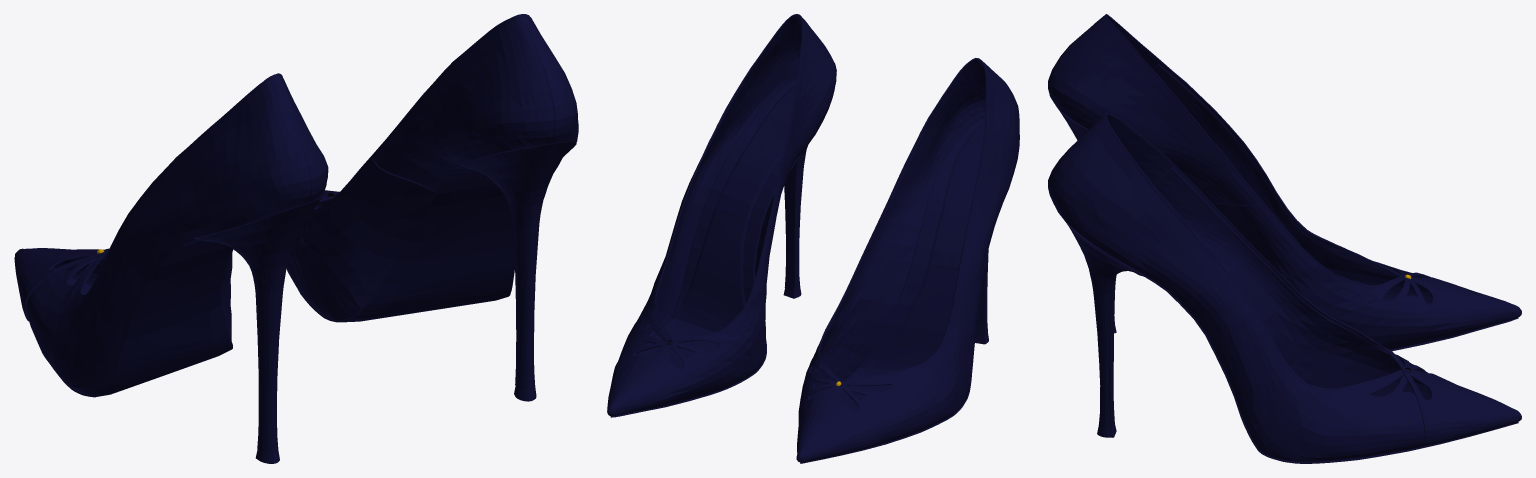
The model's file is shoe2.DAE.
3 views of the same model, side by side, from view 1: azimuth 30°, elevation 25°; view 2: azimuth 150°, elevation 25°; view 3: azimuth 270°, elevation 25° (orthographic). The views are drawn at different scales.
Visible parts, largest first — view 1: lFoot_001, rFoot_001; view 2: rFoot_001, lFoot_001; view 3: lFoot_001, rFoot_001.
Part boxes in pixels (x1,y1,x2,y2): lFoot_001: [286, 14, 578, 401]; rFoot_001: [14, 73, 328, 463]; rFoot_001: [796, 58, 1019, 463]; lFoot_001: [607, 14, 836, 417]; lFoot_001: [1048, 113, 1521, 463]; rFoot_001: [1048, 14, 1521, 351].
Bounding box in the file's own units: 162 × 140 × 189.
